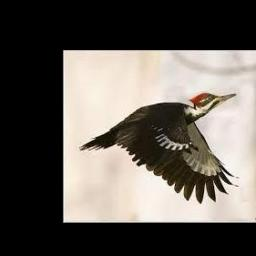Woodpecker: (79, 93, 240, 204)
